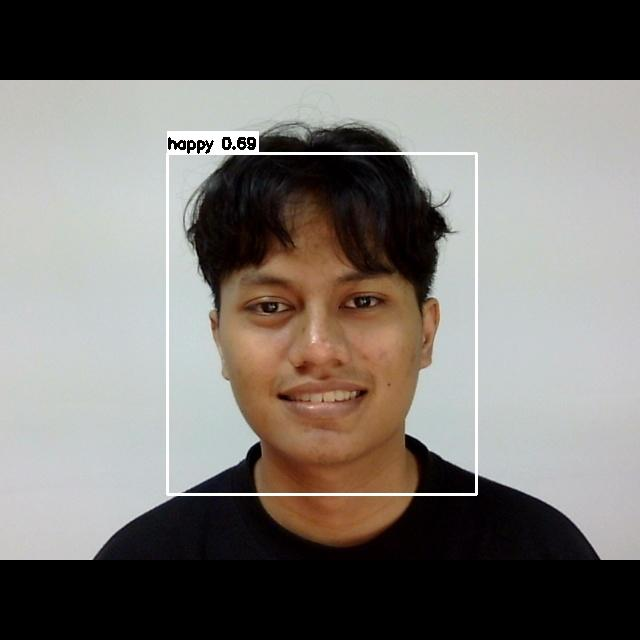Happy: (220, 257, 416, 440)
